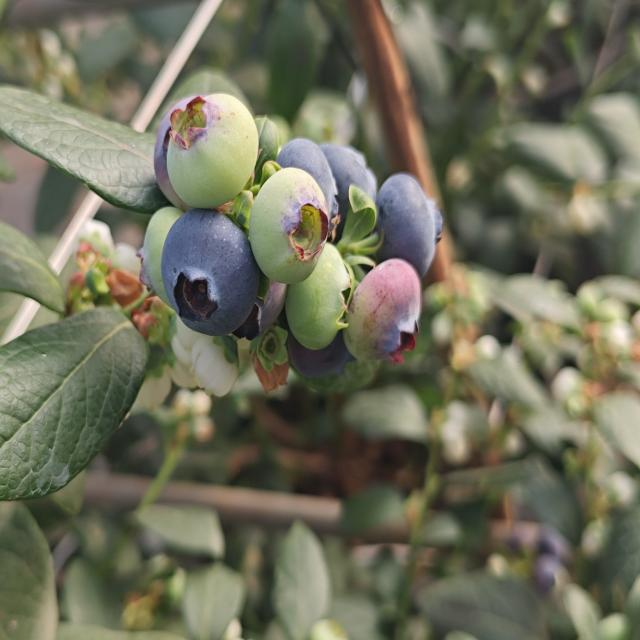ripe: (156, 206, 260, 346), (373, 164, 450, 276), (273, 131, 343, 229), (314, 128, 379, 222), (282, 304, 352, 388)
